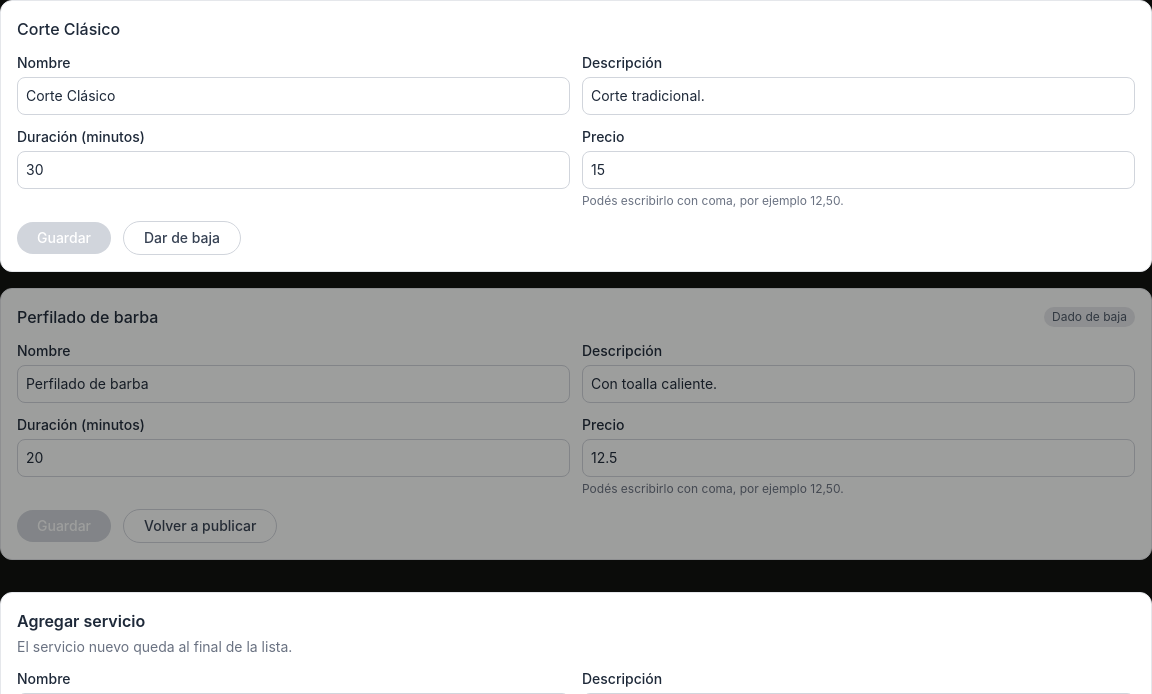
Test case: SeccionServiciosComponent › dar de baja y volver a publicar › volver a publicar manda activo en true y vuelve a ofrecer la baja
Click the button "Volver a publicar" at (200, 526), box [123,509,278,543]
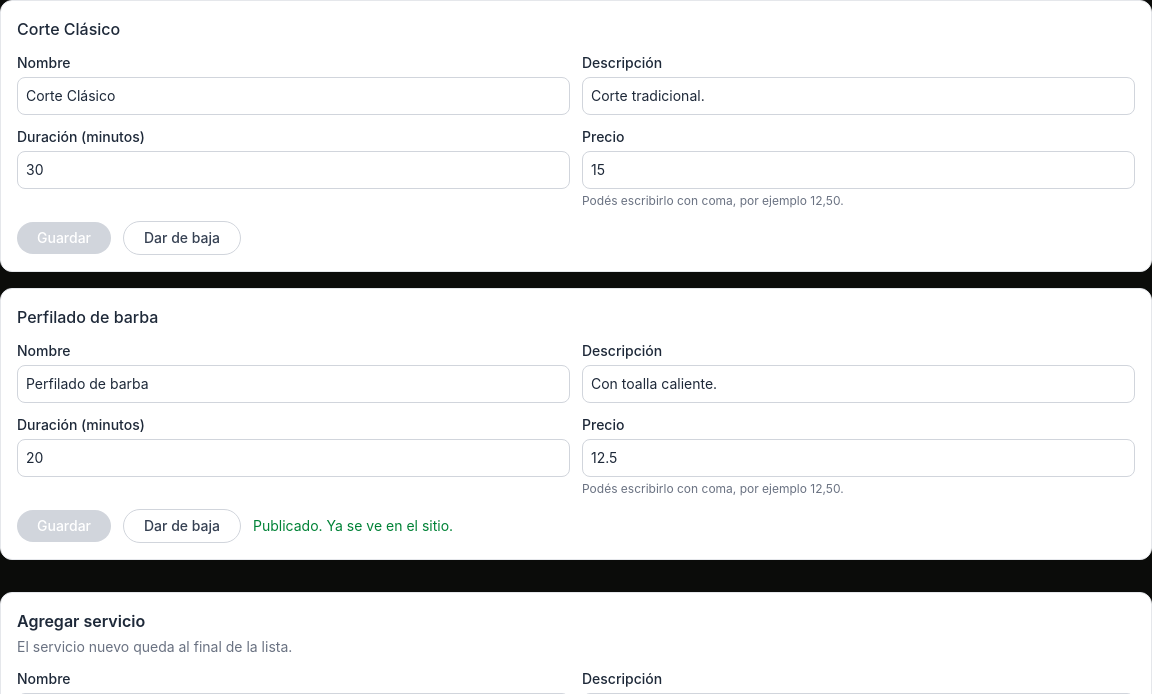
Expected: the button "Dar de baja" next to "Publicado. Ya se ve en el sitio." is shown, [123,509,241,543]
Expected: the text "Dado de baja" is gone
